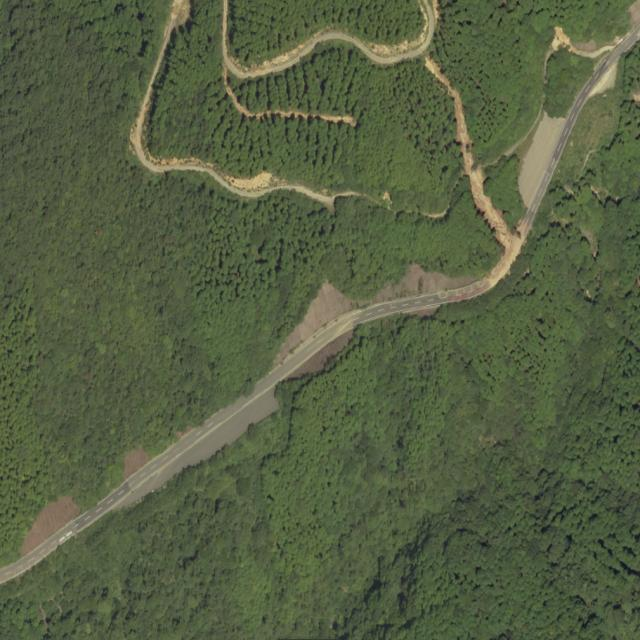landslide: (426, 56, 513, 248)
